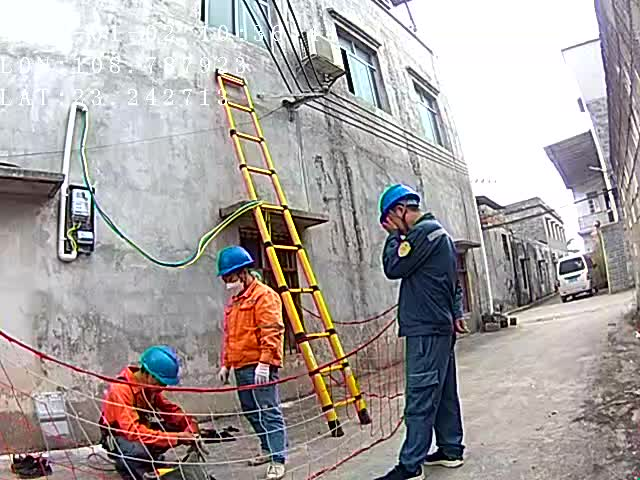downcloth: (237, 366, 289, 451)
downsuit: (399, 339, 461, 470)
halt: (378, 184, 423, 232), (138, 346, 183, 387), (217, 245, 257, 290)
hand: (454, 317, 467, 333)
inear: (392, 199, 410, 225), (237, 268, 250, 286)
person: (373, 183, 469, 479), (209, 243, 295, 463), (98, 345, 197, 480)
sleeve: (395, 242, 412, 258)
upsuit: (381, 218, 462, 331)
wglove: (254, 361, 270, 387), (217, 365, 232, 386)
yupsuit: (99, 365, 194, 443), (221, 280, 285, 367)
